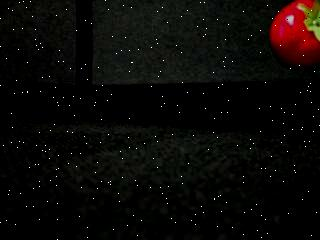Tomato: (267, 1, 320, 74)
